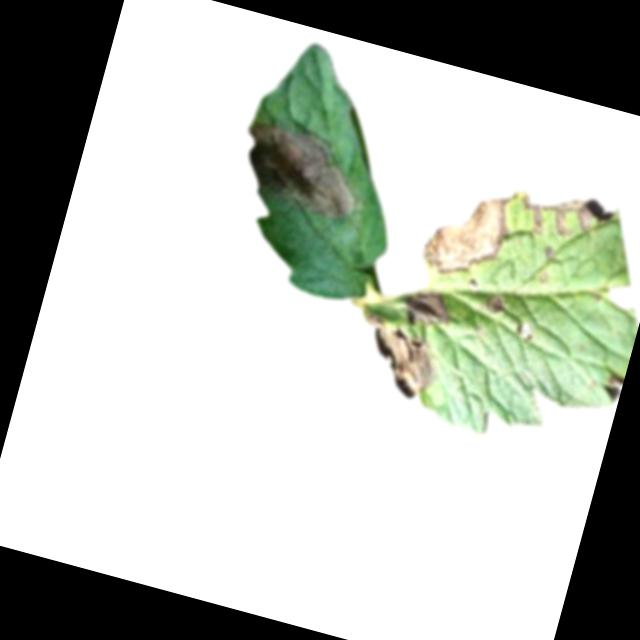Late_blight: (231, 109, 379, 224), (418, 174, 518, 287), (348, 310, 446, 404), (510, 183, 597, 246), (401, 282, 457, 334), (481, 288, 510, 318), (511, 319, 535, 342)
